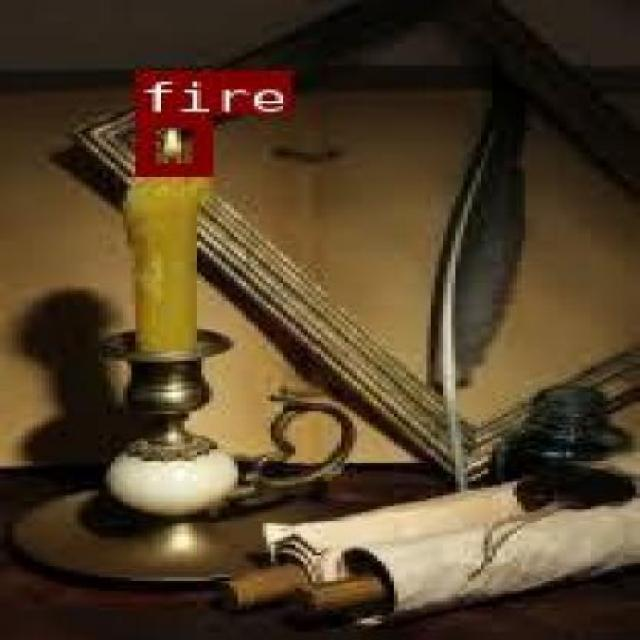Fire: (157, 126, 186, 169)
